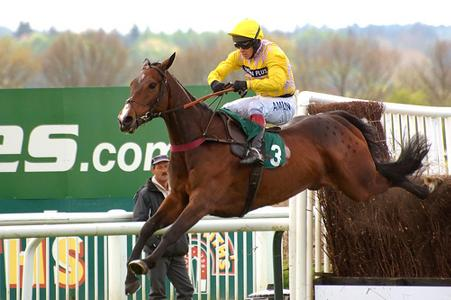person: (212, 20, 295, 167)
